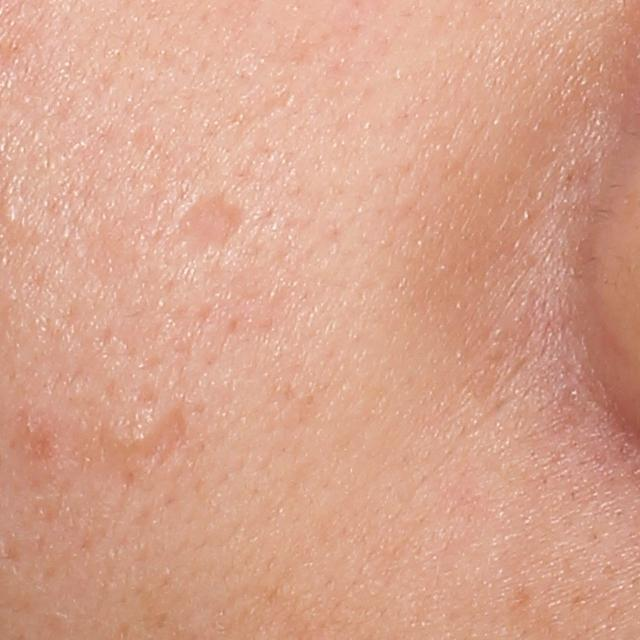atrophic_scar: (129, 398, 196, 485), (175, 185, 252, 254)
